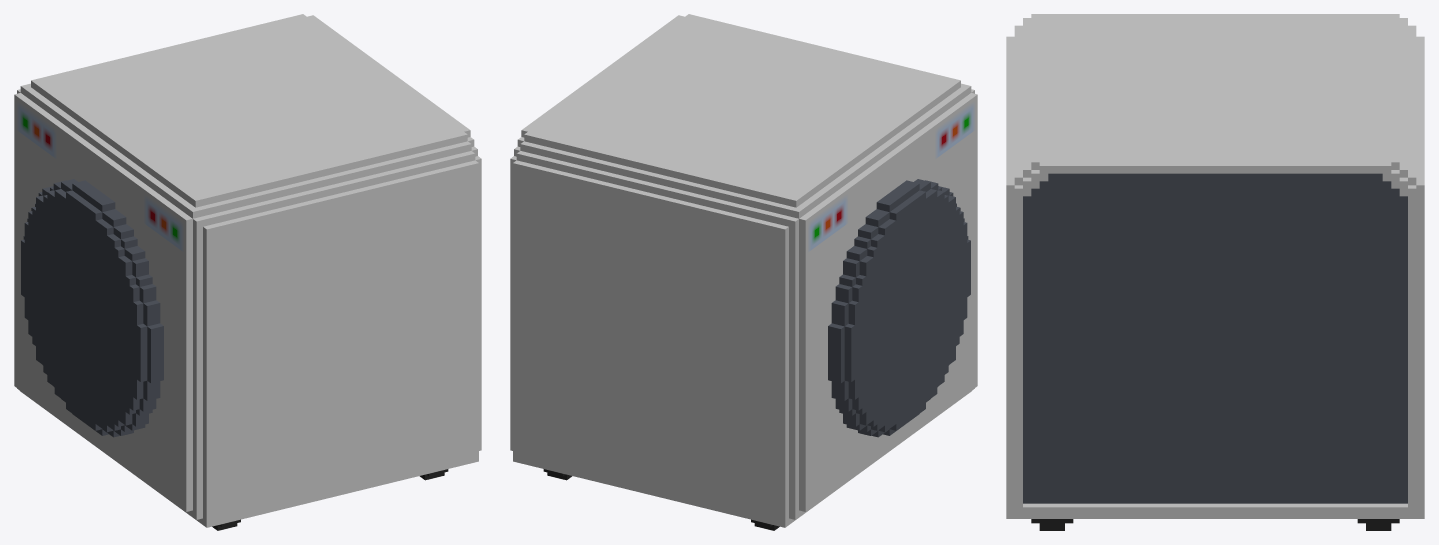
File: LargeObject_WashingMachine.fbx
3 renders of one model, left to right at view 1: azimuth 30°, elevation 25°; view 2: azimuth 150°, elevation 25°; view 3: azimuth 270°, elevation 25°, orthographic. The views are drawn at different scales.
Visible parts, largest first — view 1: WashingMachine; view 2: WashingMachine; view 3: WashingMachine.
Boxes of the visible parts, bbox=[...] form: WashingMachine: bbox=[14, 14, 481, 530]; WashingMachine: bbox=[510, 14, 977, 530]; WashingMachine: bbox=[1006, 14, 1424, 530].
Size of the model in its own units: 48 by 50 by 50.
